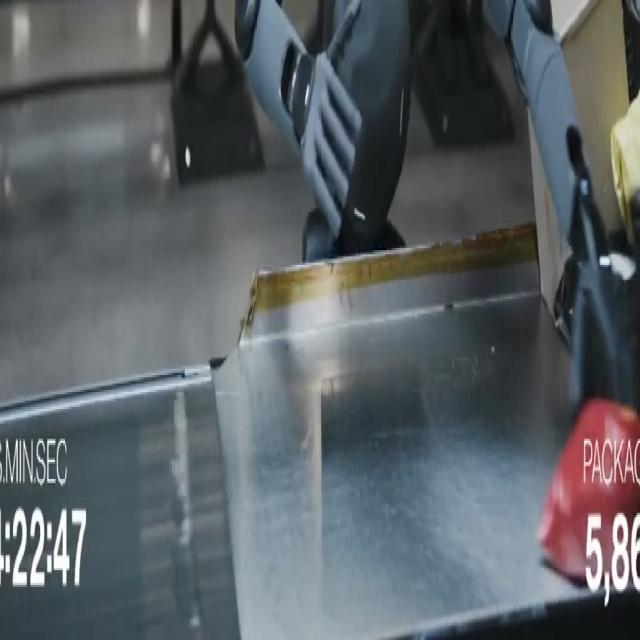package: (538, 398, 639, 591), (552, 0, 629, 229), (611, 93, 639, 231), (532, 142, 554, 220), (542, 231, 563, 301)
